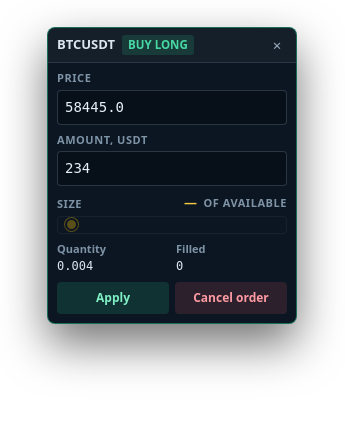
Test: FuturesOrderEditor › stays open and states the failure when the amendment could not be sent
This screenshot has width=345, height=434.
Replace the text in the field named "Order price" with "58500" at (172, 107), box [57,90,287,124]
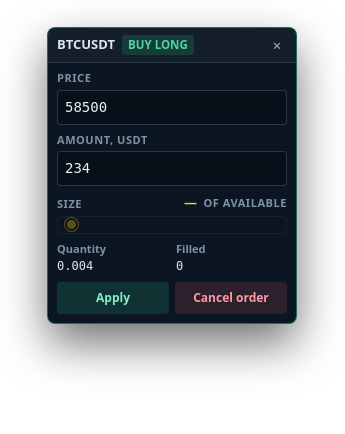
Click the button "Apply" at (113, 298), box [57,282,169,314]
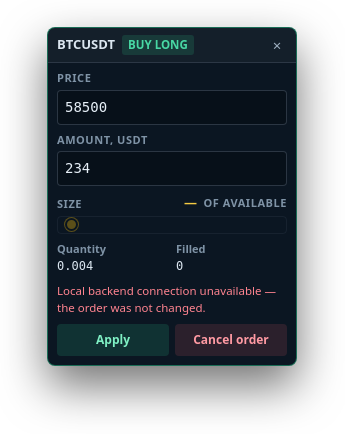
expect the message shows "the order was not changed": met, box [57,283,276,315]
